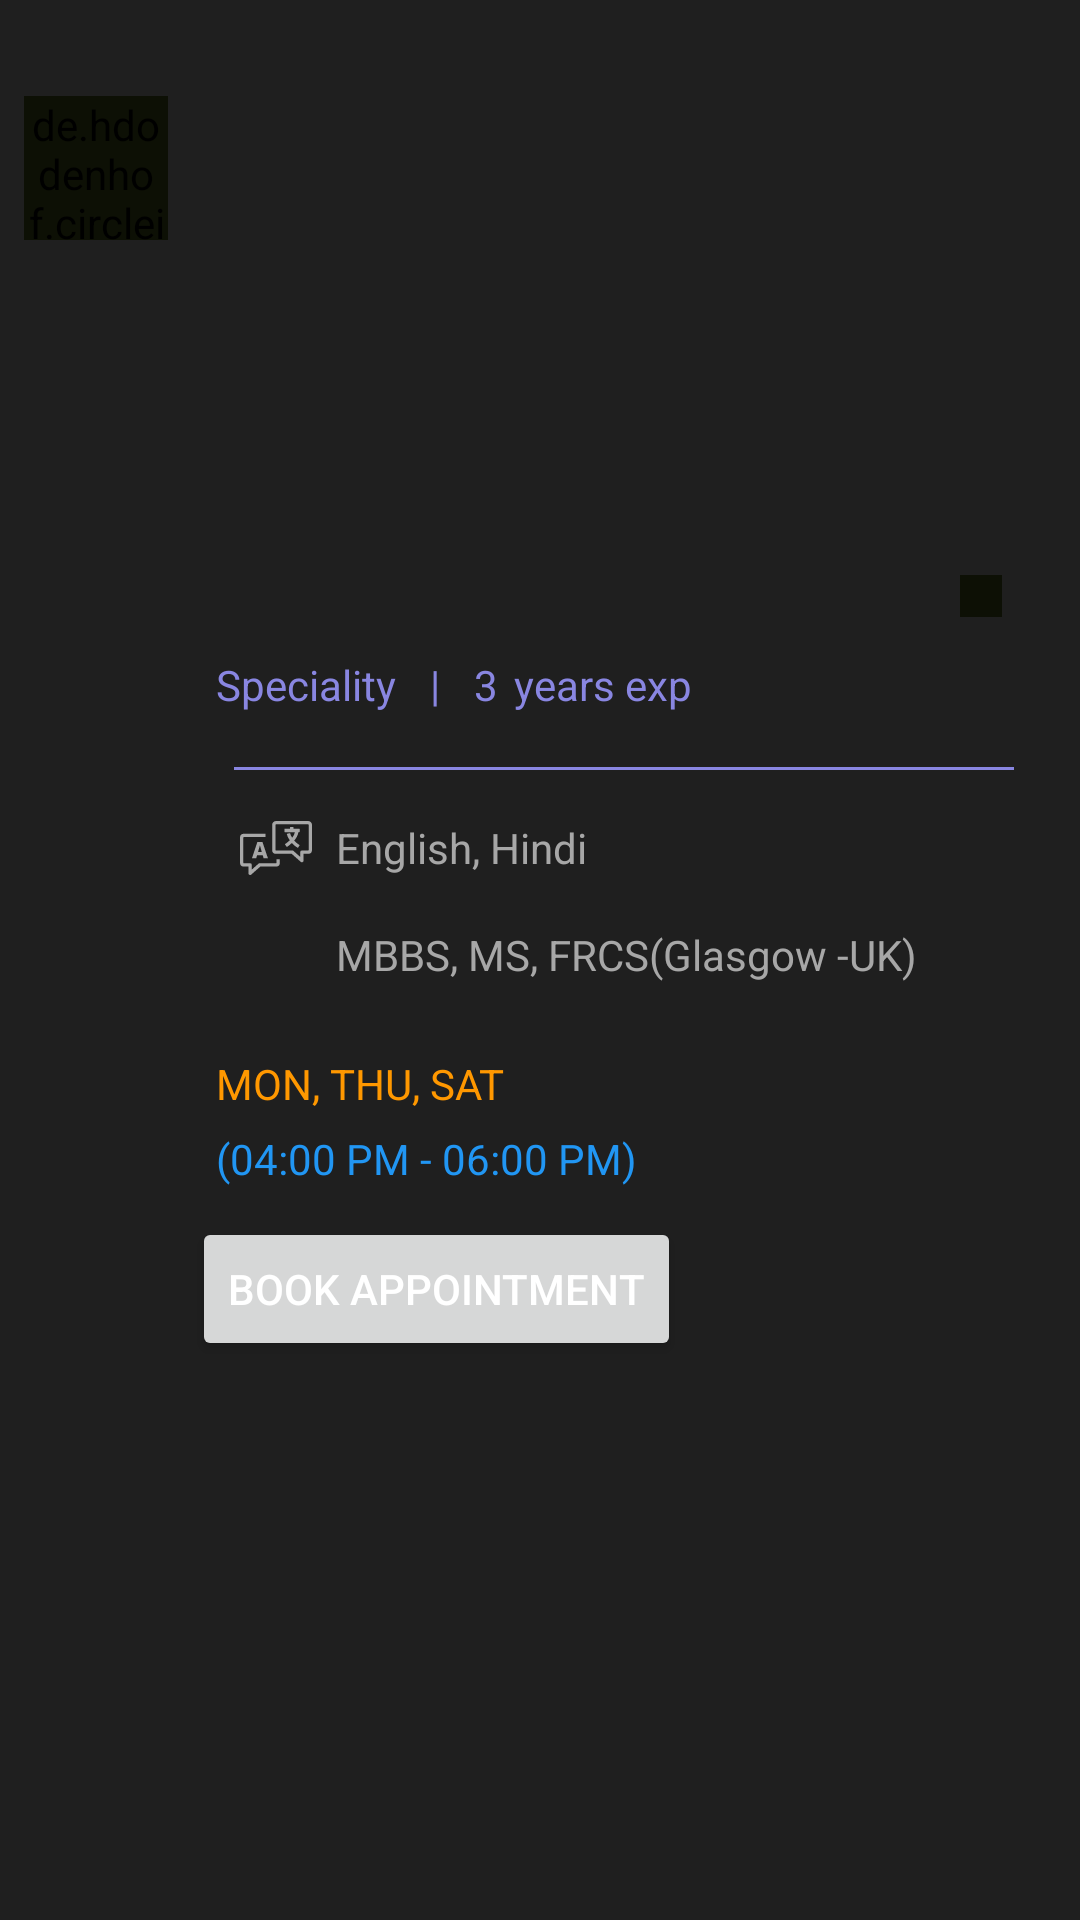

Where icons sit on this 1080 x 1920 app screen, as [x1=x1, y1=y1, x2=x2, y2=y2]:
language: [x1=240, y1=821, x2=312, y2=875]
